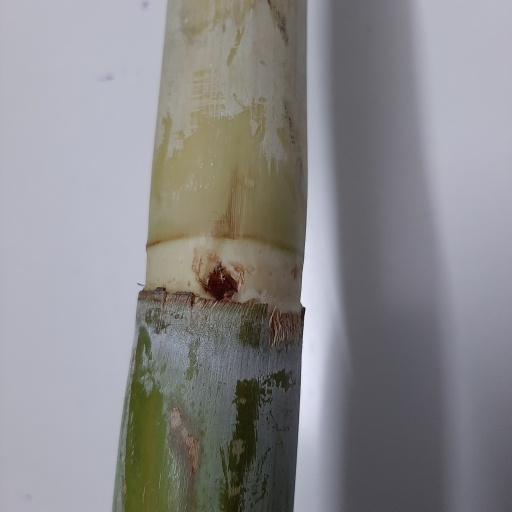Damage_Bud: (203, 258, 242, 299)
